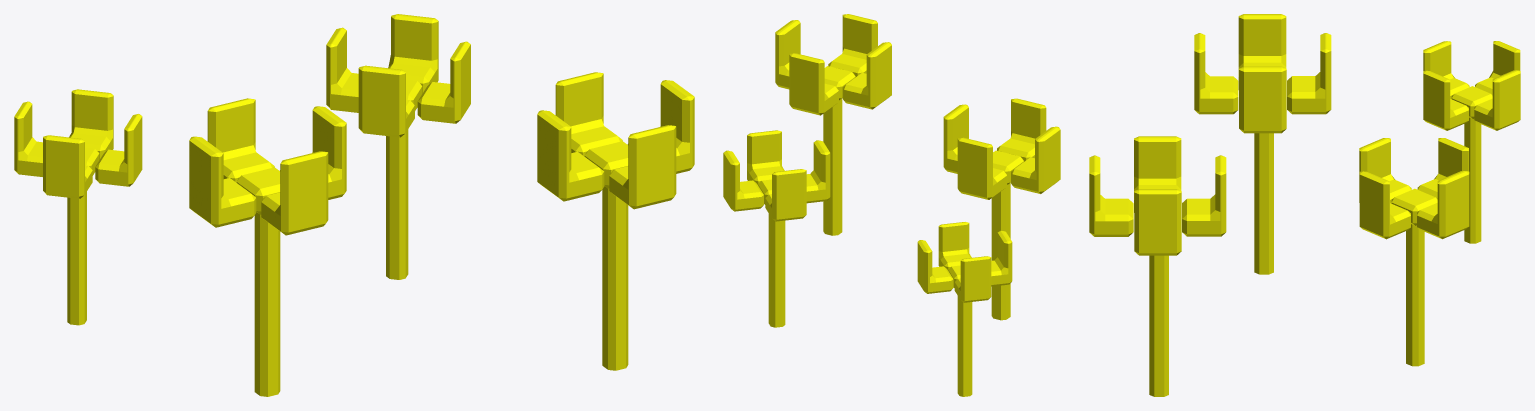
Rendered from Flowers_2.glb.
3 renders of one model, left to right at view 1: azimuth 30°, elevation 25°; view 2: azimuth 150°, elevation 25°; view 3: azimuth 270°, elevation 25°, orthographic. The views are drawn at different scales.
Parts seen in each view (by area): view 1: Flowers_2; view 2: Flowers_2; view 3: Flowers_2.
Boxes of the visible parts, bbox=[...] form: Flowers_2: bbox=[14, 14, 694, 396]; Flowers_2: bbox=[723, 14, 1060, 396]; Flowers_2: bbox=[1089, 14, 1520, 396].
Bounding box in the file's own units: 1.83 × 0.9678 × 1.65.
1 material, 1 textured.
